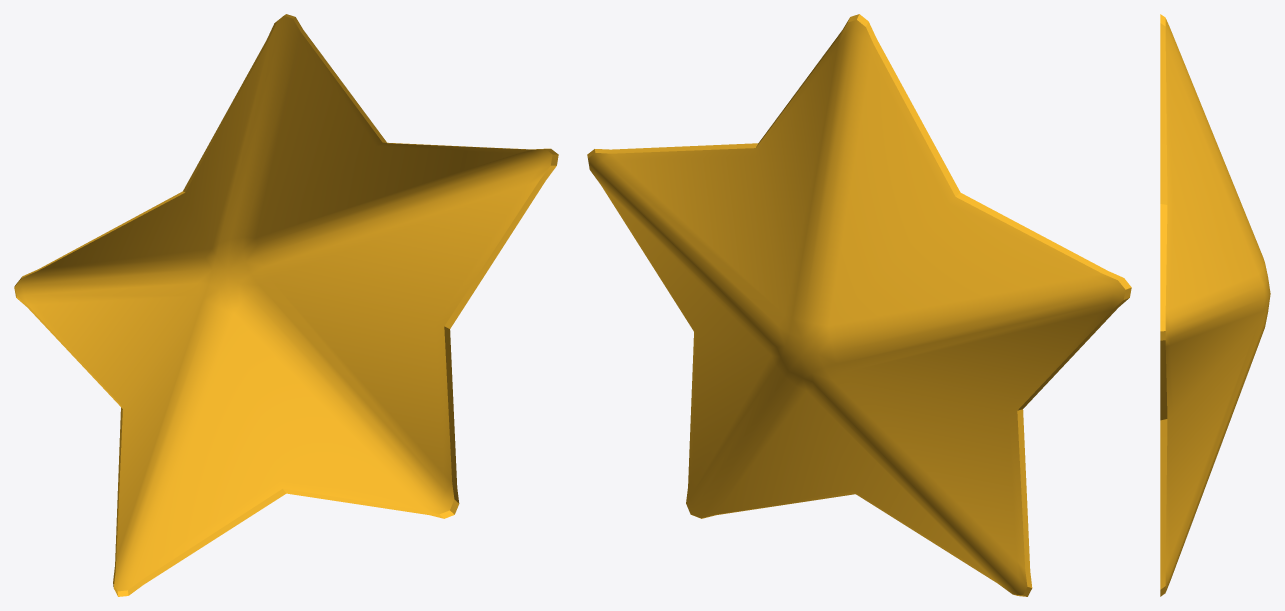
The model's file is Star.fbx.
3 views of the same model, side by side, from view 1: azimuth 30°, elevation 25°; view 2: azimuth 150°, elevation 25°; view 3: azimuth 270°, elevation 25° (orthographic). The views are drawn at different scales.
Visible parts, largest first — view 1: star; view 2: star; view 3: star.
Boxes of the visible parts, x1,y1,x2,y2 form: star: (14,14,558,596); star: (587,14,1131,596); star: (1160,14,1270,596).
Bounding box in the file's own units: 123 × 118 × 23.16.
